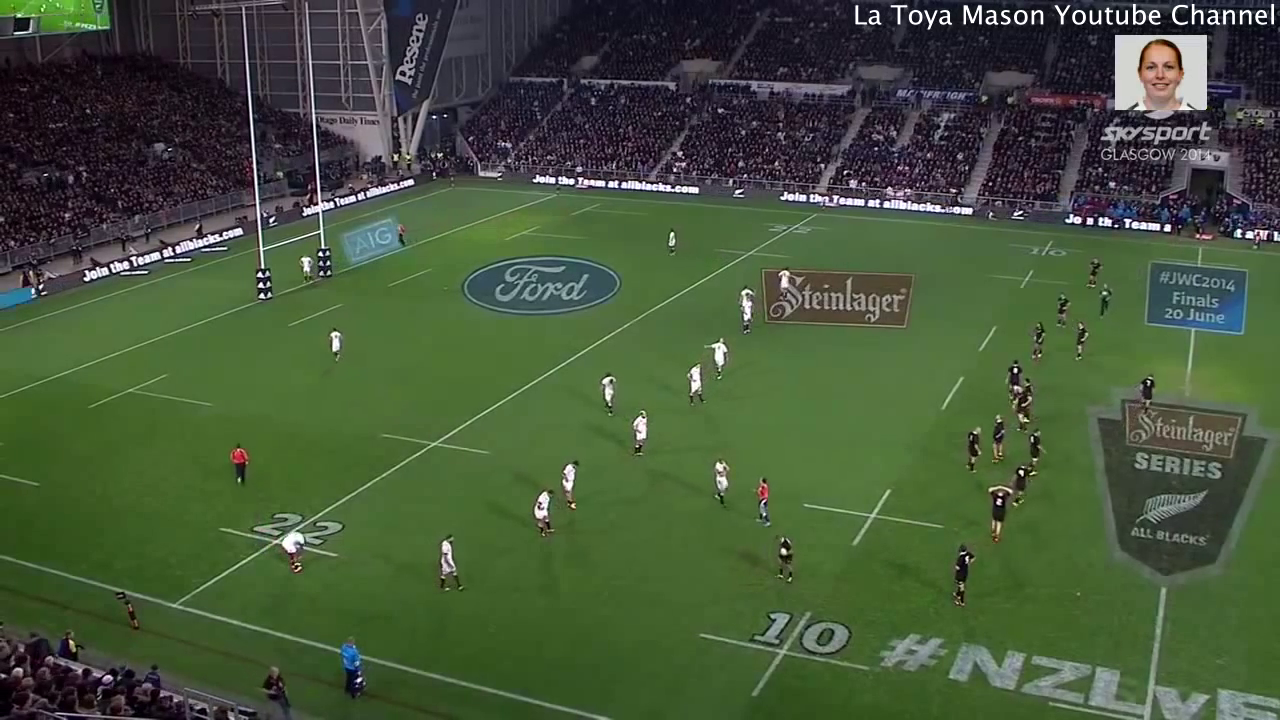10_metre: (695, 608, 879, 706), (800, 483, 949, 552), (980, 264, 1075, 293), (1007, 233, 1087, 261)
ball: (779, 544, 789, 557)
player: (521, 477, 564, 553), (551, 445, 591, 520), (431, 529, 470, 603), (982, 479, 1016, 547), (949, 541, 979, 612), (219, 433, 255, 492), (593, 366, 627, 424), (625, 408, 661, 460), (701, 332, 733, 388), (277, 520, 305, 582), (749, 471, 777, 533), (771, 528, 797, 592), (707, 452, 735, 511), (1066, 317, 1097, 366), (1022, 421, 1049, 473), (1028, 317, 1055, 368), (984, 412, 1009, 467), (1009, 382, 1034, 437), (1133, 371, 1160, 420), (998, 355, 1027, 400), (681, 358, 707, 407), (321, 320, 345, 372), (961, 421, 983, 477), (1078, 254, 1107, 295), (1008, 459, 1033, 505), (1093, 282, 1118, 319), (738, 292, 758, 335), (293, 248, 316, 285), (1054, 285, 1071, 335), (1018, 374, 1040, 407), (661, 224, 681, 260), (735, 282, 759, 310), (777, 265, 792, 298)
post: (232, 1, 344, 308)
